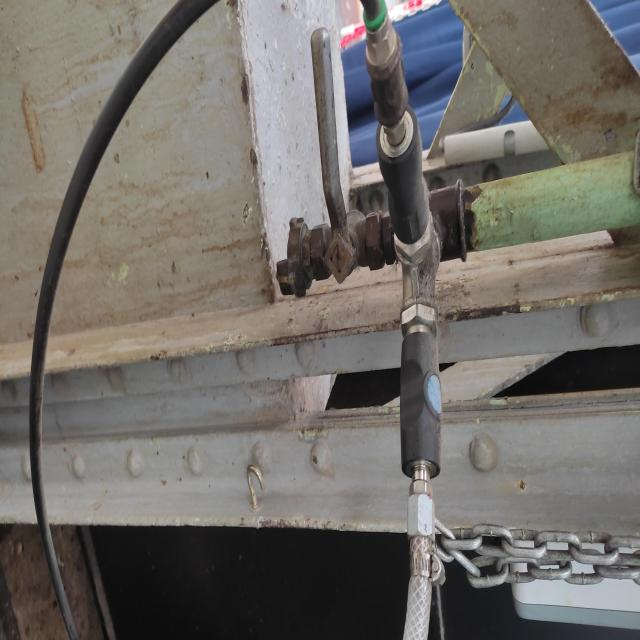closed_valve: (300, 19, 382, 286)
